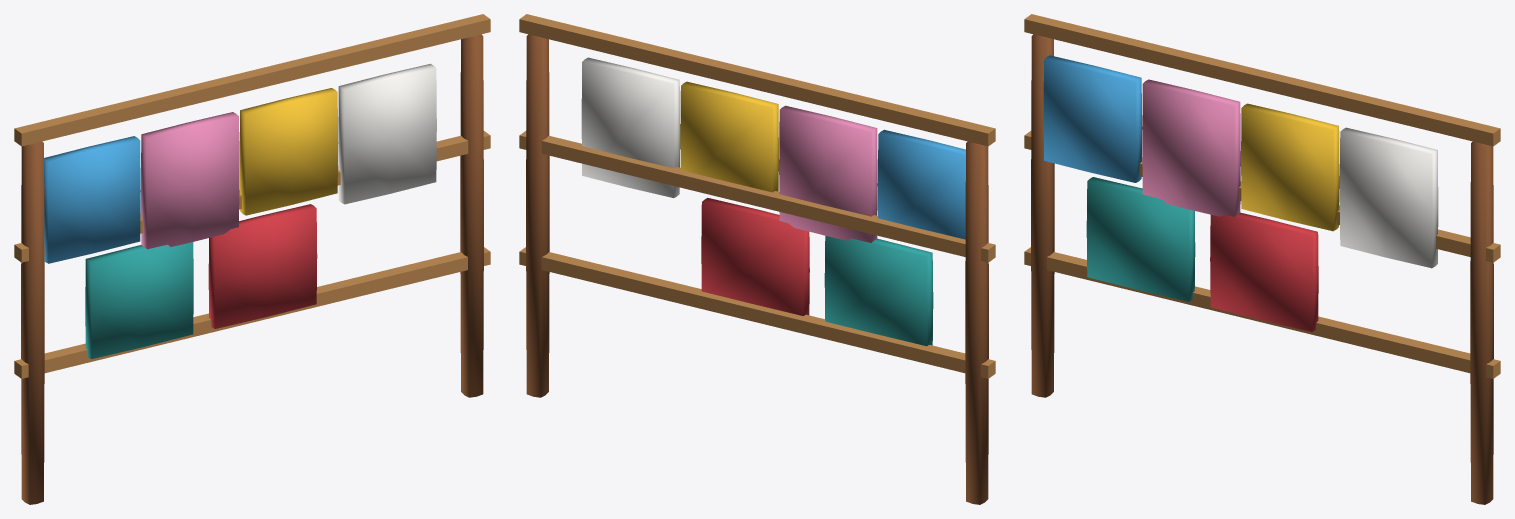
The model's file is towel_rack.glb.
3 renders of one model, left to right at view 1: azimuth 30°, elevation 25°; view 2: azimuth 150°, elevation 25°; view 3: azimuth 330°, elevation 25°, orthographic.
Visible parts, largest first — view 1: root; view 2: root; view 3: root.
Boxes of the visible parts, x1,y1,x2,y2 form: root: (14,14,490,504); root: (519,14,995,504); root: (1024,14,1500,504).
Size of the model in its own units: 1.9 by 1.45 by 0.09.
